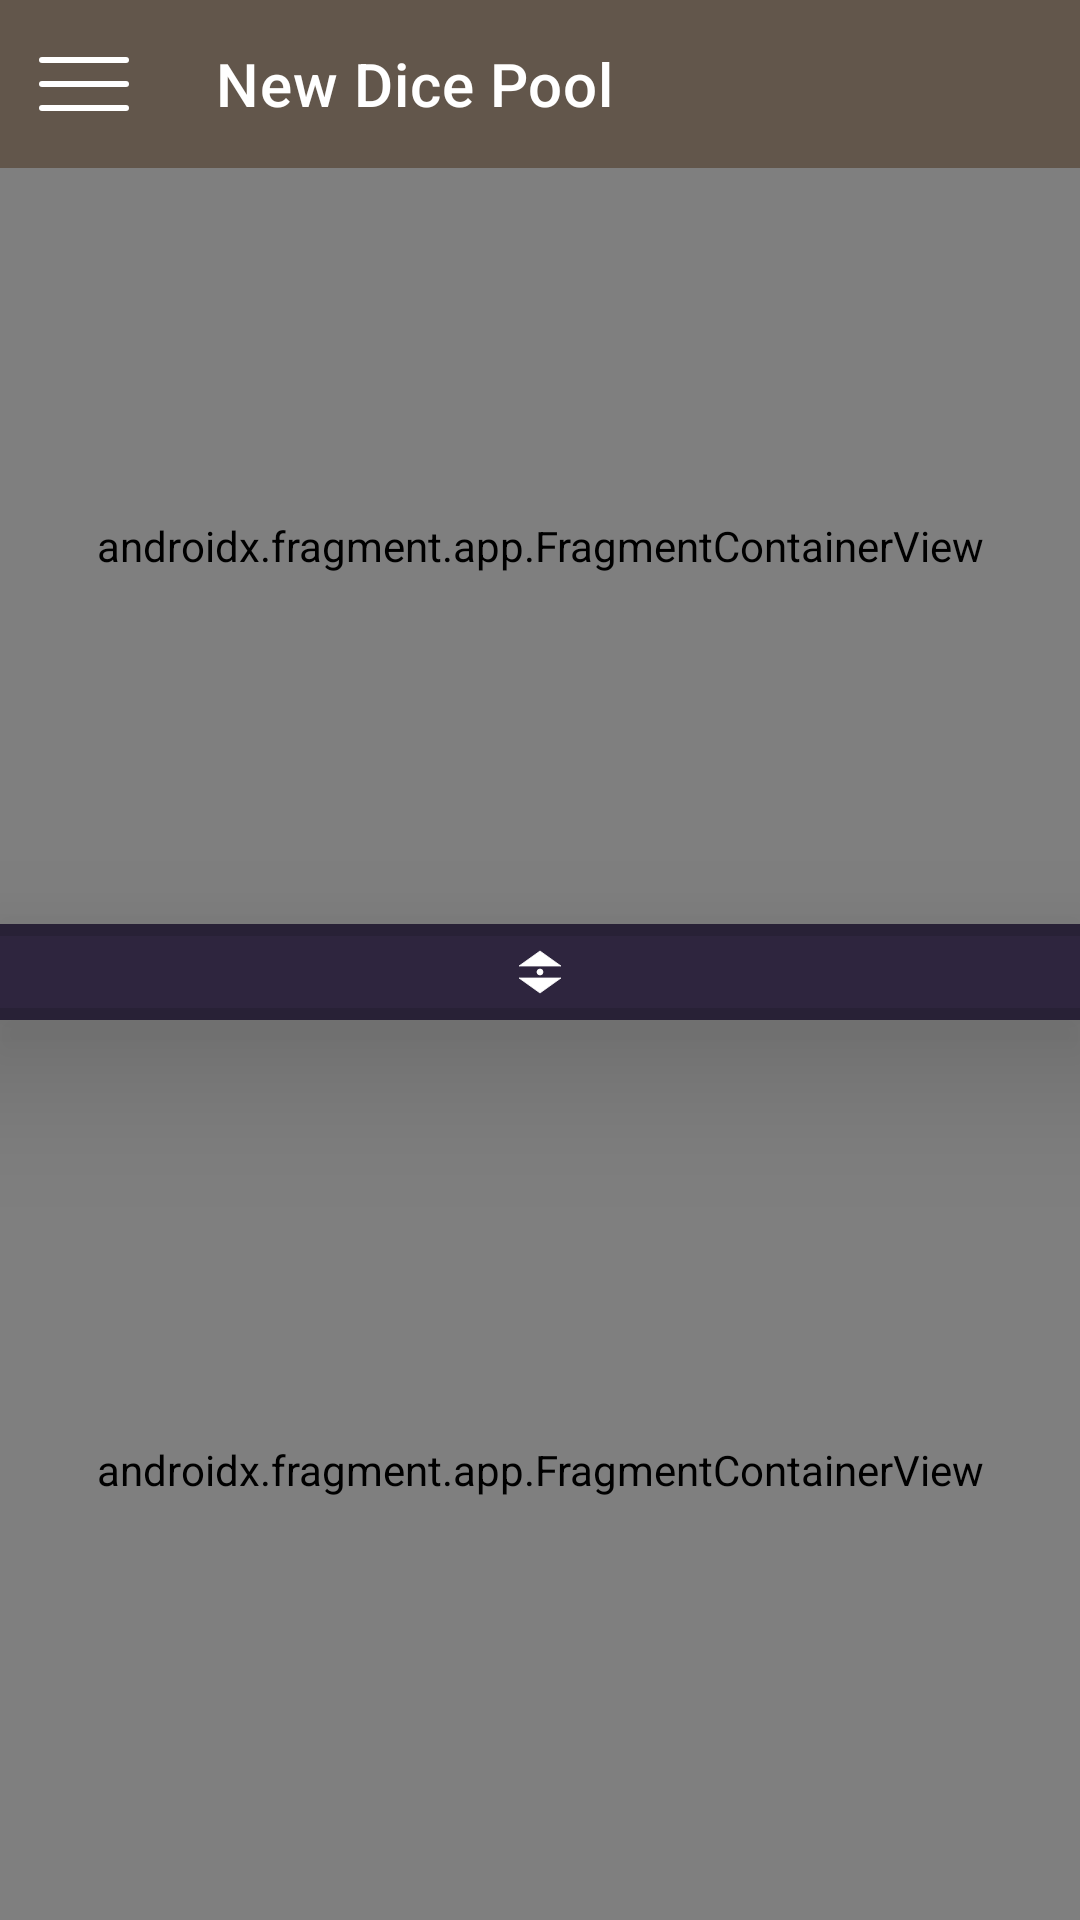

Where to tap for icons on this 1080 x 1920 app screen, as (x=x, y=y):
Dice Drawer Drag Icon: (x=540, y=972)
